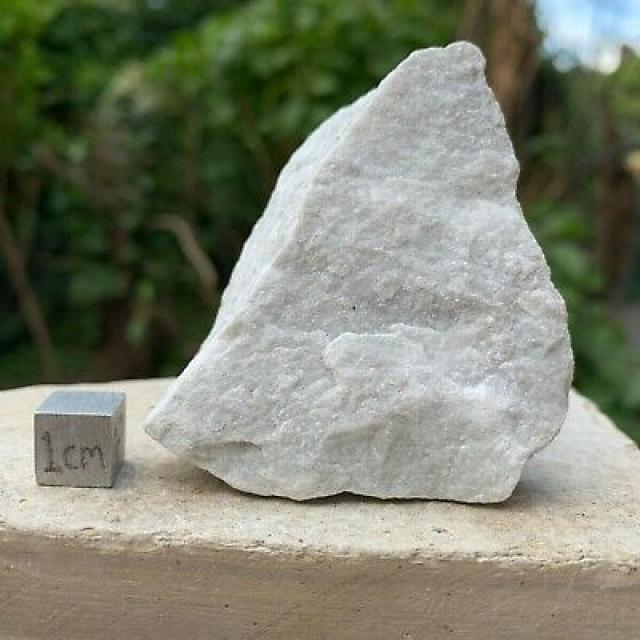Metamorphic: (149, 34, 571, 512)
